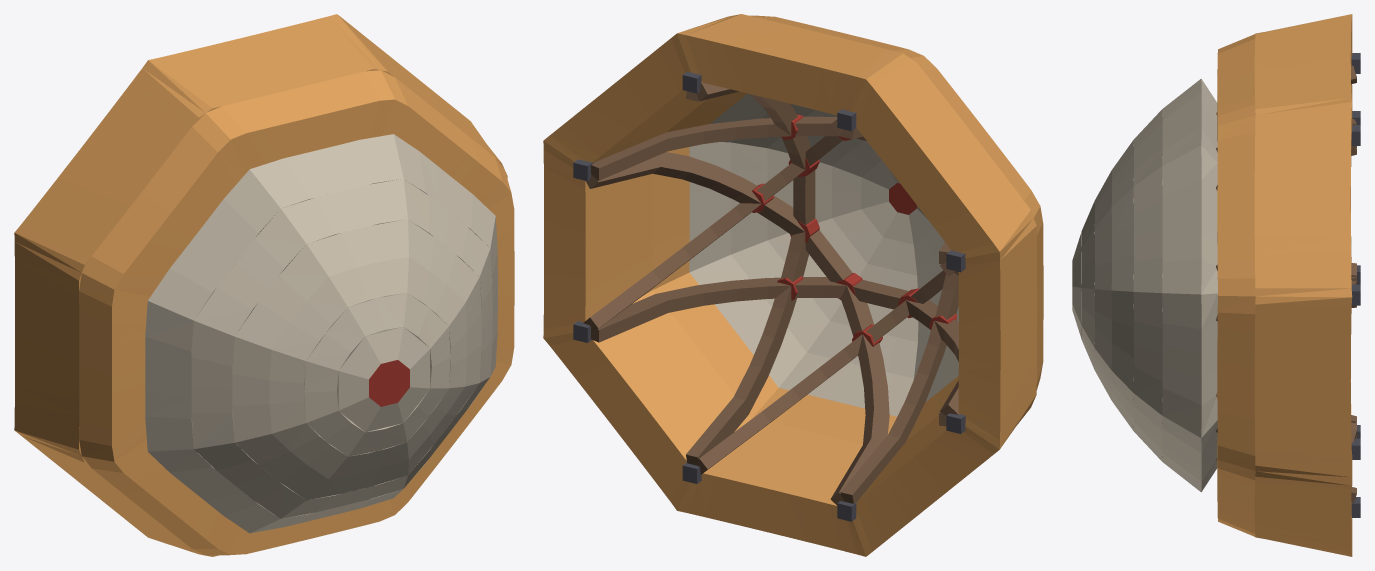
The model's file is modelo.obj.
The picture shows the model from 3 angles, left to right: view 1: azimuth 30°, elevation 25°; view 2: azimuth 150°, elevation 25°; view 3: azimuth 270°, elevation 25°; orthographic projection. The views are drawn at different scales.
Parts seen in each view (by area): view 1: plem_s3_h06_04, plem_s3_h06_00, plem_s4_h06_00, plem_s2_h06_04, plem_s3_h05_03, plem_s3_h05_00, plem_s4_h06_04, plem_s2_h06_00, moc_s3_n01_10, moc_s3_n01_01, moc_s3_n01_09, moc_s3_n01_04 (+162 smaller); view 2: moc_s7_n01_08, moc_s7_n01_07, moc_s7_n01_06, moc_s7_n01_04, moc_s7_n01_03, moc_s7_n01_05, moc_s7_n01_09, moc_s7_n01_02, moc_s0_n01_05, moc_s0_n01_06, moc_s0_n01_04, moc_s3_n01_02 (+126 smaller); view 3: plem_s1_h06_00, plem_s0_h06_04, plem_s1_h06_04, moc_s1_n01_01, moc_s1_n01_09, moc_s1_n01_10, moc_s1_n01_06, moc_s1_n01_04, moc_s1_n01_05, moc_s1_n01_07, moc_s1_n01_02, plem_s0_h06_00 (+99 smaller).
Part boxes in pixels (left/top/right/bottom): plem_s3_h06_04: left=148, top=268, right=212, bottom=320; plem_s3_h06_00: left=224, top=169, right=280, bottom=233; plem_s4_h06_00: left=145, top=301, right=193, bottom=351; plem_s2_h06_04: left=250, top=158, right=309, bottom=208; plem_s3_h05_03: left=194, top=288, right=253, bottom=336; plem_s3_h05_00: left=255, top=209, right=306, bottom=268; plem_s4_h06_04: left=145, top=416, right=193, bottom=451; plem_s2_h06_00: left=359, top=134, right=403, bottom=183; moc_s3_n01_10: left=21, top=209, right=95, bottom=265; moc_s3_n01_01: left=130, top=68, right=199, bottom=132; moc_s3_n01_09: left=33, top=194, right=107, bottom=249; moc_s3_n01_04: left=94, top=115, right=164, bottom=176; moc_s7_n01_08: left=574, top=319, right=684, bottom=392; moc_s7_n01_07: left=587, top=330, right=693, bottom=407; moc_s7_n01_06: left=599, top=342, right=702, bottom=423; moc_s7_n01_04: left=623, top=366, right=720, bottom=455; moc_s7_n01_03: left=635, top=377, right=729, bottom=470; moc_s7_n01_05: left=611, top=354, right=711, bottom=439; moc_s7_n01_09: left=562, top=312, right=675, bottom=376; moc_s7_n01_02: left=647, top=389, right=734, bottom=486; moc_s0_n01_05: left=544, top=216, right=653, bottom=263; moc_s0_n01_06: left=544, top=203, right=653, bottom=248; moc_s0_n01_04: left=544, top=230, right=652, bottom=278; moc_s3_n01_02: left=864, top=77, right=939, bottom=149; plem_s1_h06_00: left=1162, top=258, right=1217, bottom=294; plem_s0_h06_04: left=1162, top=293, right=1217, bottom=329; plem_s1_h06_04: left=1162, top=145, right=1217, bottom=194; moc_s1_n01_01: left=1255, top=270, right=1351, bottom=288; moc_s1_n01_09: left=1255, top=128, right=1351, bottom=166; moc_s1_n01_10: left=1255, top=110, right=1351, bottom=148; moc_s1_n01_06: left=1254, top=182, right=1350, bottom=204; moc_s1_n01_04: left=1254, top=217, right=1350, bottom=238; moc_s1_n01_05: left=1254, top=199, right=1350, bottom=221; moc_s1_n01_07: left=1254, top=164, right=1350, bottom=187; moc_s1_n01_02: left=1255, top=253, right=1351, bottom=271; plem_s0_h06_00: left=1162, top=388, right=1217, bottom=437.
Bounding box in the file's own units: 9.16 × 9.16 × 5.26.
